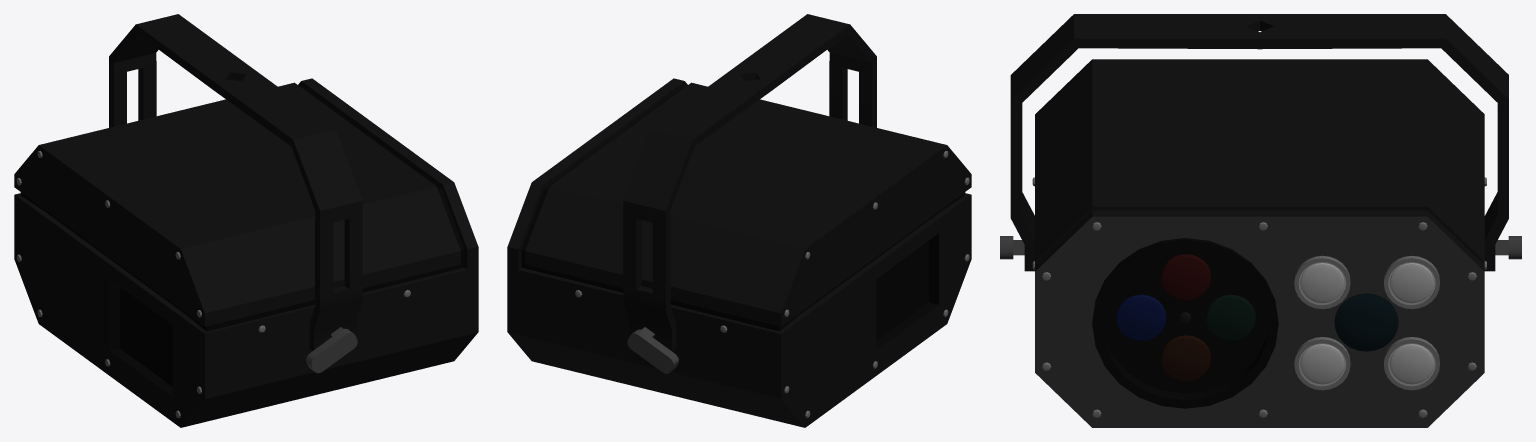
File: Venue_Light_01.glb
3 renders of one model, left to right at view 1: azimuth 30°, elevation 25°; view 2: azimuth 150°, elevation 25°; view 3: azimuth 270°, elevation 25°, orthographic. The views are drawn at different scales.
Parts seen in each view (by area): view 1: Mesh_Venue_Light_01; view 2: Mesh_Venue_Light_01; view 3: Mesh_Venue_Light_01.
Part boxes in pixels (bbox=[...]): Mesh_Venue_Light_01: bbox=[14, 14, 478, 427]; Mesh_Venue_Light_01: bbox=[507, 14, 971, 427]; Mesh_Venue_Light_01: bbox=[1000, 14, 1521, 427].
Bounding box in the file's own units: 0.328 × 0.3 × 0.4478.
Materials: 1 (1 with a texture image).
